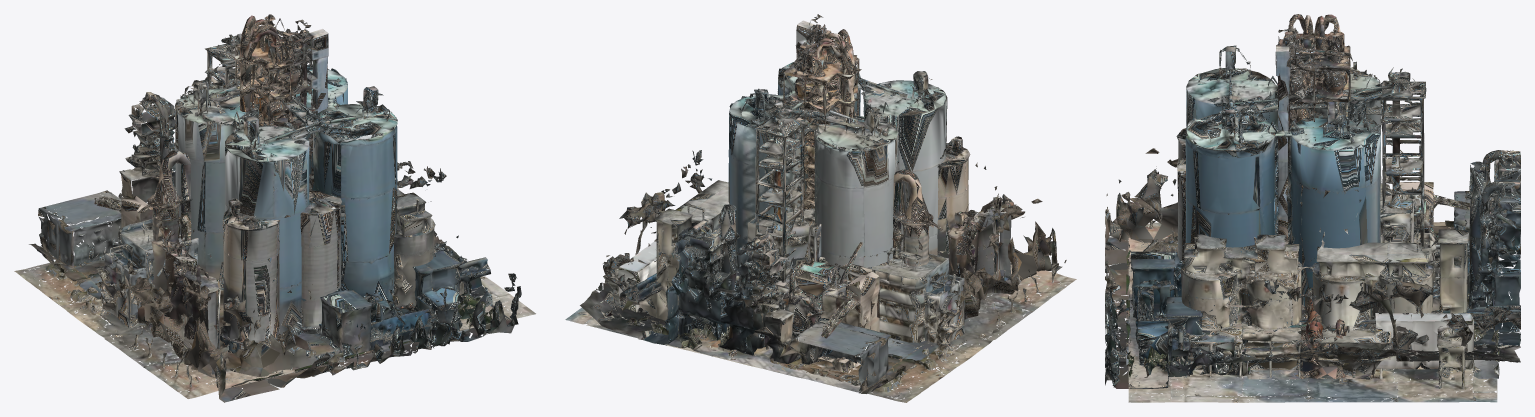
File: far_cement.glb
3 renders of one model, left to right at view 1: azimuth 30°, elevation 25°; view 2: azimuth 150°, elevation 25°; view 3: azimuth 270°, elevation 25°, orthographic. The views are drawn at different scales.
Parts seen in each view (by area): view 1: tank, plant, ruin; view 2: tank, plant, ruin; view 3: tank, ruin, plant.
Part boxes in pixels (x1=…): tank: x1=29, y1=33, x2=521, y2=402; plant: x1=74, y1=14, x2=492, y2=387; ruin: x1=14, y1=171, x2=535, y2=398; tank: x1=580, y1=45, x2=1062, y2=393; plant: x1=607, y1=14, x2=1012, y2=392; ruin: x1=565, y1=180, x2=1076, y2=402; tank: x1=1105, y1=45, x2=1520, y2=388; ruin: x1=1128, y1=183, x2=1497, y2=402; plant: x1=1126, y1=14, x2=1499, y2=379.
Bounding box in the file's own units: 120 × 90.74 × 116.
3 materials, 3 textured.
